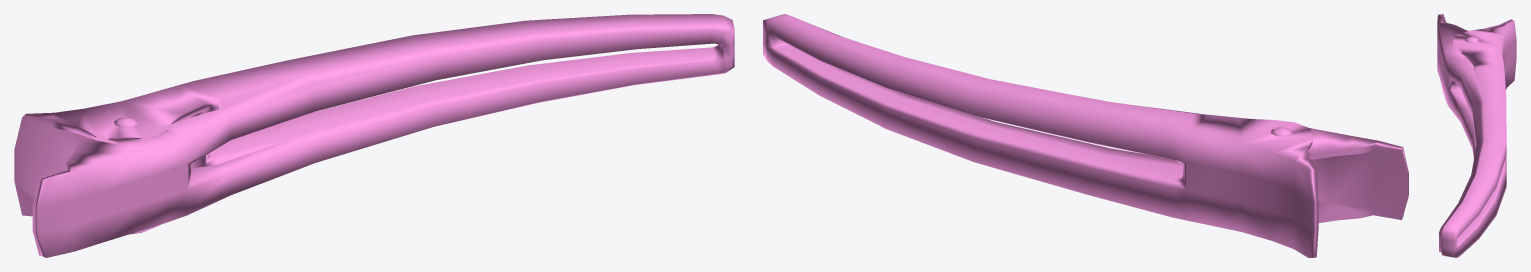
Rendered from kami_valletta_kamidome.dae.
3 views of the same model, side by side, from view 1: azimuth 30°, elevation 25°; view 2: azimuth 150°, elevation 25°; view 3: azimuth 270°, elevation 25° (orthographic). The views are drawn at different scales.
Visible parts, largest first — view 1: o_acs_head_kamidome_00_0; view 2: o_acs_head_kamidome_00_0; view 3: o_acs_head_kamidome_00_0.
Part boxes in pixels (x1,y1,x2,y2): o_acs_head_kamidome_00_0: (14,14,734,257); o_acs_head_kamidome_00_0: (763,14,1408,257); o_acs_head_kamidome_00_0: (1437,14,1516,257).
Bounding box in the file's own units: 0.0651 × 0.0104 × 0.00935.
